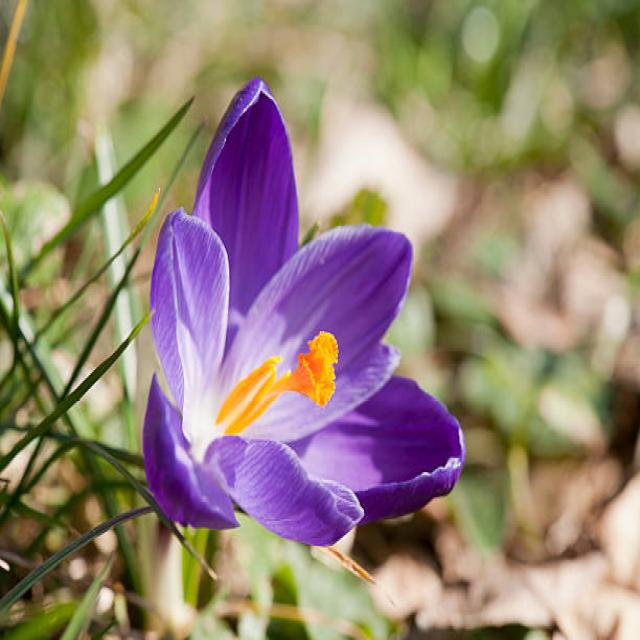saffron open: (142, 79, 465, 546)
